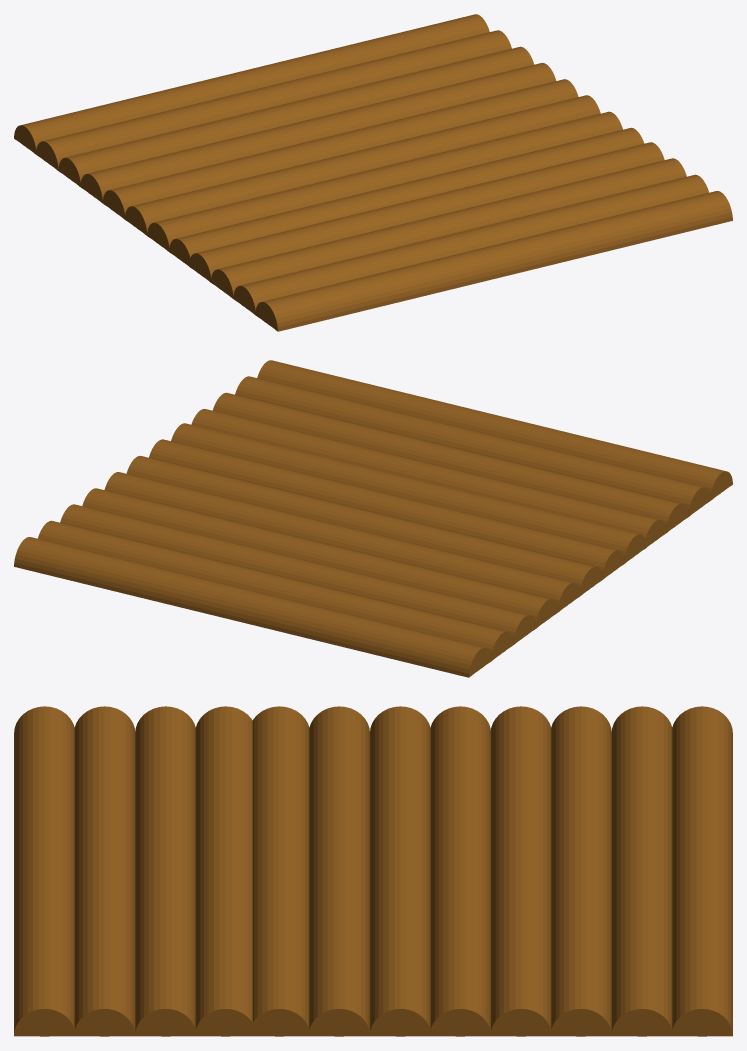
Rendered from Feld.glb.
3 renders of one model, top to bottom at view 1: azimuth 30°, elevation 25°; view 2: azimuth 150°, elevation 25°; view 3: azimuth 270°, elevation 25°, orthographic. The views are drawn at different scales.
Parts seen in each view (by area): view 1: Zylinder; view 2: Zylinder; view 3: Zylinder.
Boxes of the visible parts, x1=… form: Zylinder: x1=14, y1=14, x2=732, y2=331; Zylinder: x1=14, y1=360, x2=732, y2=677; Zylinder: x1=14, y1=706, x2=732, y2=1036.
Size of the model in its own units: 7.07 by 0.3023 by 7.1.
Materials: 1 (1 with a texture image).
